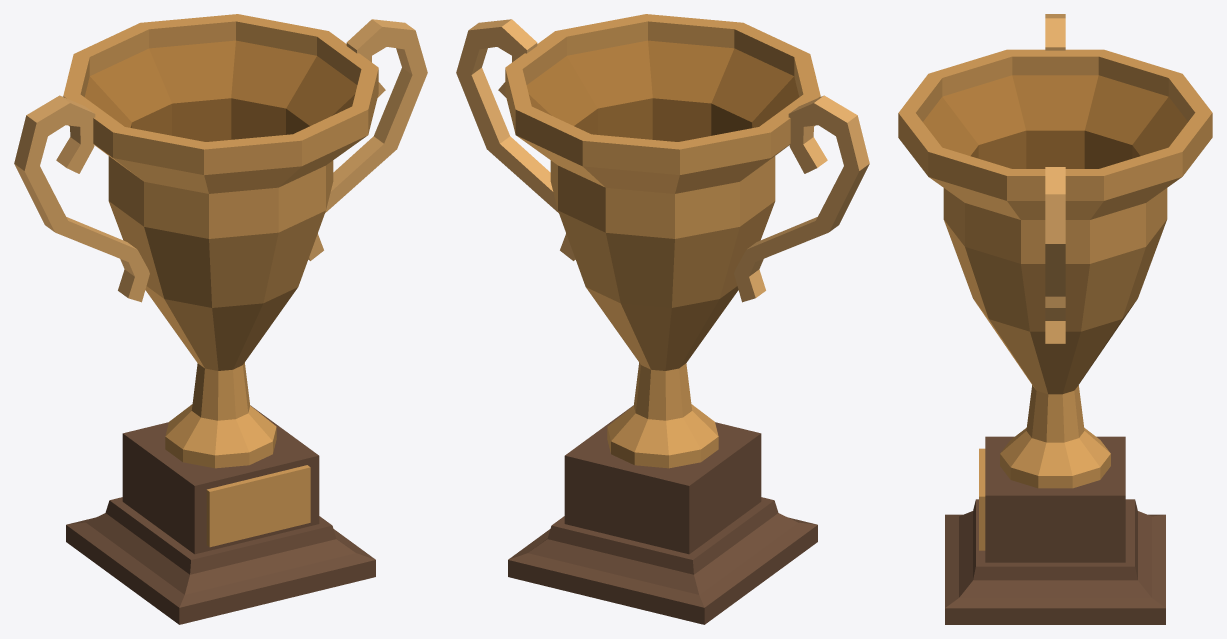
File: SM_Prop_Trophy_01.obj
The picture shows the model from 3 angles, left to right: view 1: azimuth 30°, elevation 25°; view 2: azimuth 150°, elevation 25°; view 3: azimuth 270°, elevation 25°; orthographic projection. The views are drawn at different scales.
Parts seen in each view (by area): view 1: SM_Prop_Trophy_01_0; view 2: SM_Prop_Trophy_01_0; view 3: SM_Prop_Trophy_01_0.
Part boxes in pixels (left/top/right/bottom): SM_Prop_Trophy_01_0: left=14, top=14, right=427, bottom=624; SM_Prop_Trophy_01_0: left=456, top=14, right=869, bottom=624; SM_Prop_Trophy_01_0: left=898, top=14, right=1212, bottom=624.
Size of the model in its own units: 0.4432 by 0.5234 by 0.3068.
1 material, 1 textured.
